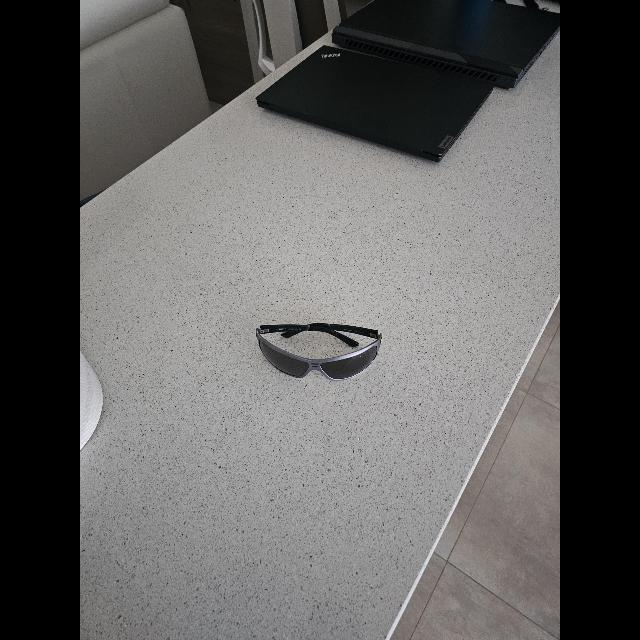Sunglasses: (256, 322, 382, 380)
